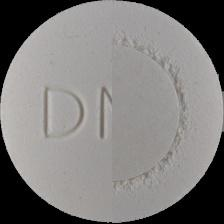10544-955: (0, 0, 224, 224)
